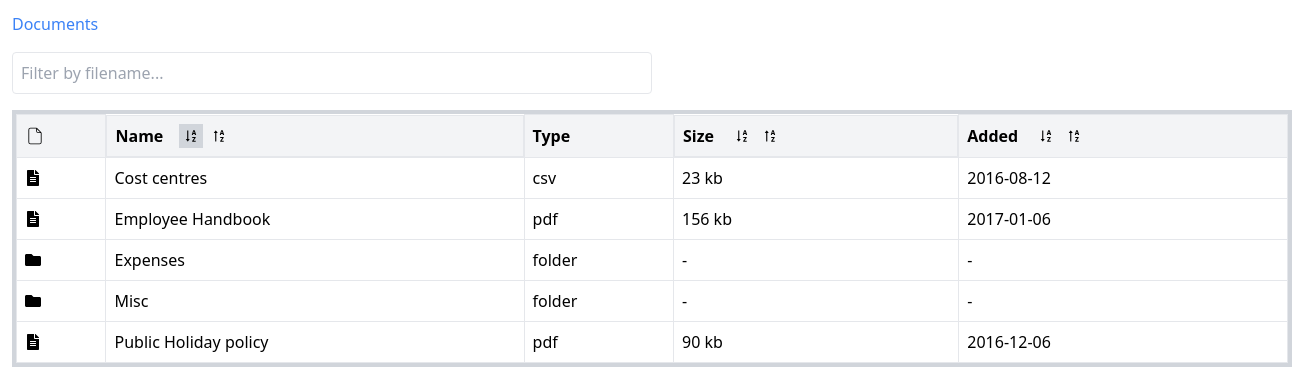
it: filters files by name
The image size is (1292, 384).
Type "Employee" into the field with placeholder "Filter by filename...". click: (332, 73)
box: [12,52,652,94]
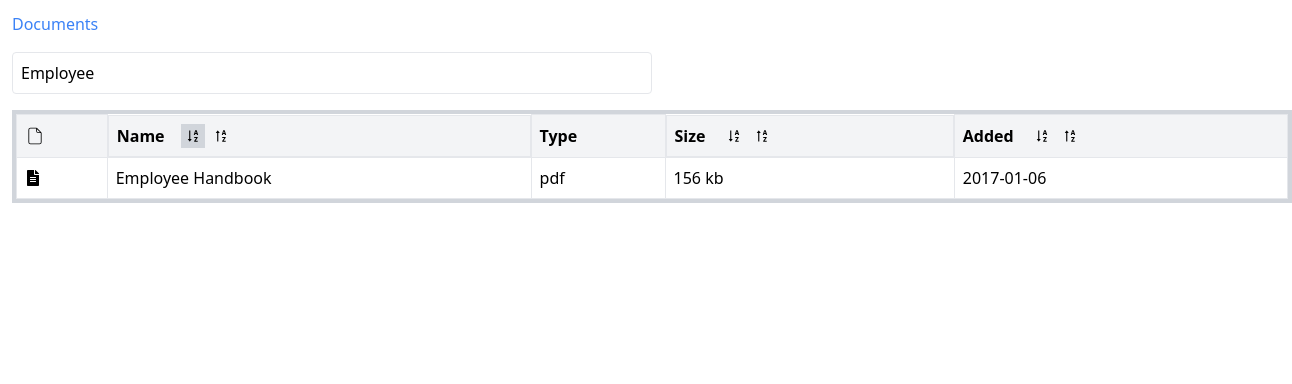
Now the text "Employee Handbook" is shown, box [107,157,531,198]
Now the text "Public Holiday policy" is gone
